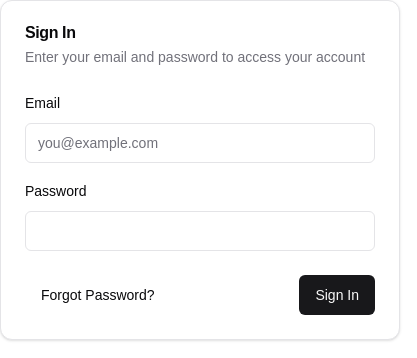
Test: SignInForm › disables submit button while loading
This screenshot has width=417, height=358.
In the field labelled "Email": {"x": 200, "y": 143} [25,123,375,163], type "test@example.com"
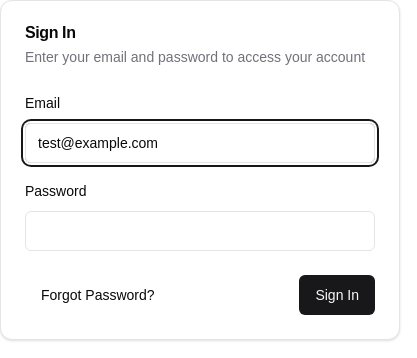
In the password field labelled "Password": {"x": 200, "y": 231} [25,211,375,251], type "password123"
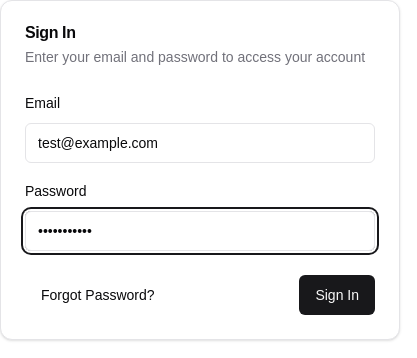
Click the button "Sign In": {"x": 337, "y": 295} [299,275,375,315]
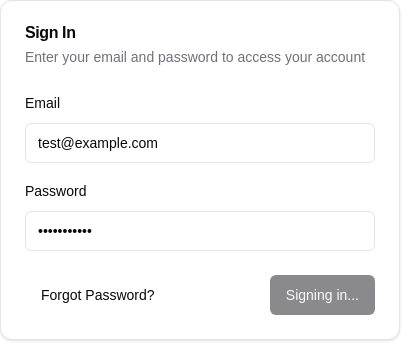
Result: the button named "sign in" is disabled at [270,275,375,315]
